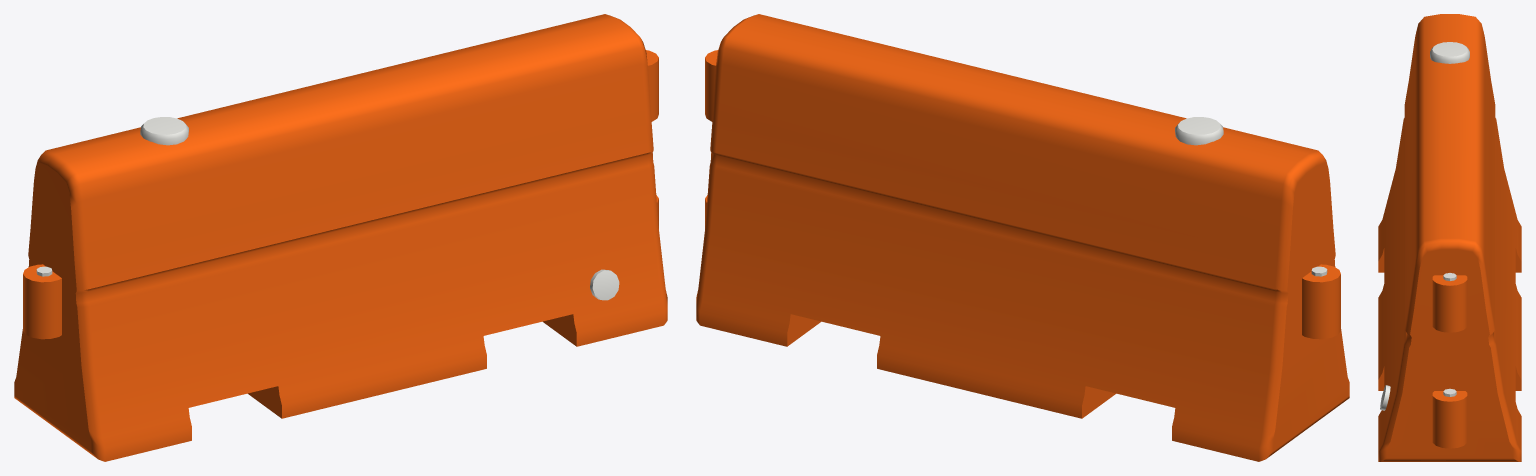
File: water_barrier.glb
The picture shows the model from 3 angles, left to right: view 1: azimuth 30°, elevation 25°; view 2: azimuth 150°, elevation 25°; view 3: azimuth 270°, elevation 25°; orthographic projection. The views are drawn at different scales.
Visible parts, largest first — view 1: water_barrier; view 2: water_barrier; view 3: water_barrier.
Boxes of the visible parts, left/top/right/bottom form: water_barrier: left=14, top=14, right=667, bottom=461; water_barrier: left=696, top=14, right=1349, bottom=461; water_barrier: left=1378, top=14, right=1521, bottom=461.
Bounding box in the file's own units: 1.97 × 0.834 × 0.47.
